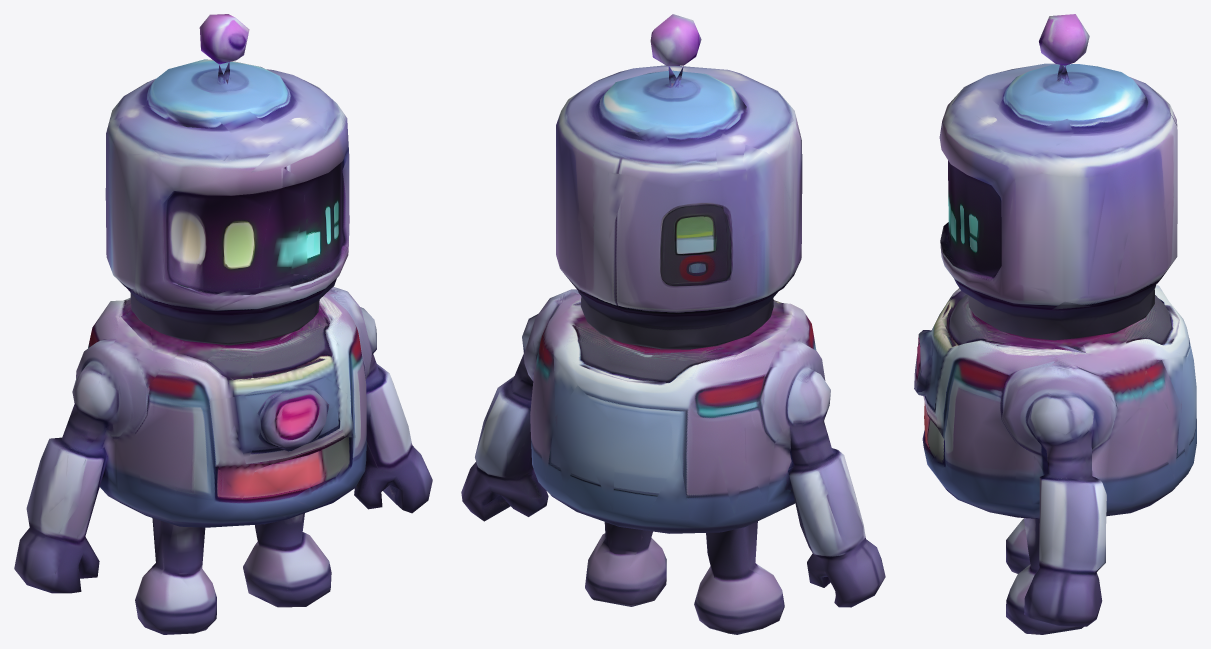
The model's file is character9.glb.
The picture shows the model from 3 angles, left to right: view 1: azimuth 30°, elevation 25°; view 2: azimuth 150°, elevation 25°; view 3: azimuth 270°, elevation 25°; orthographic projection. The views are drawn at different scales.
Bounding box in the file's own units: 1.38 × 1.91 × 0.8476.
Materials: 1 (1 with a texture image).
